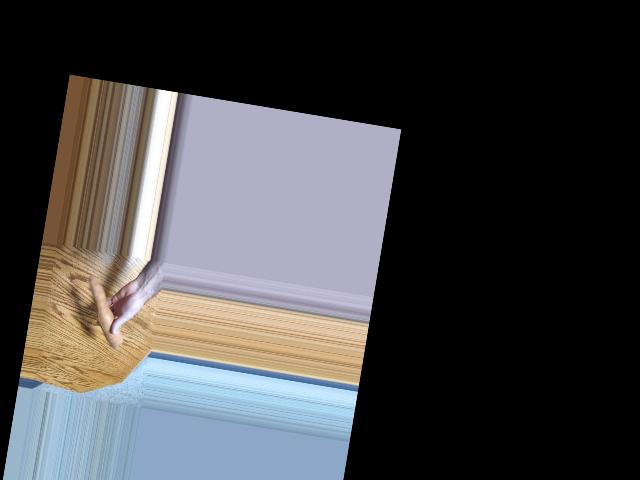sweet_potato: (82, 277, 130, 356)
